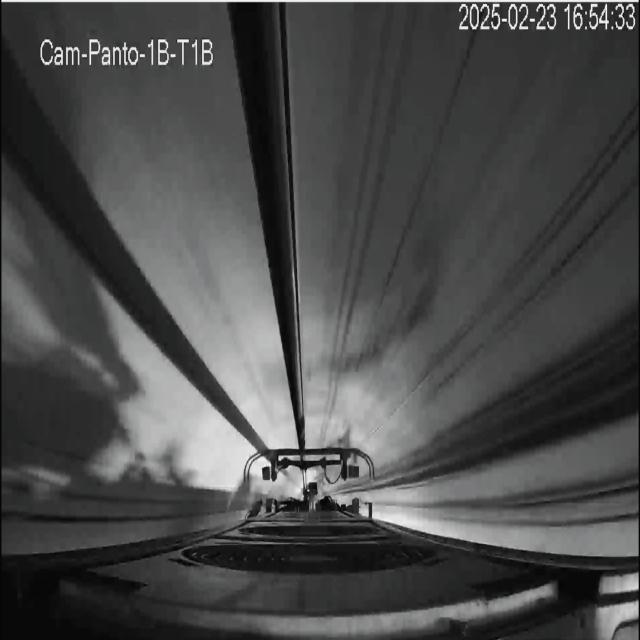Camera Stamp: (34, 26, 220, 72)
Date Stamp: (459, 3, 636, 33)
No - Spark: (244, 446, 375, 518)
